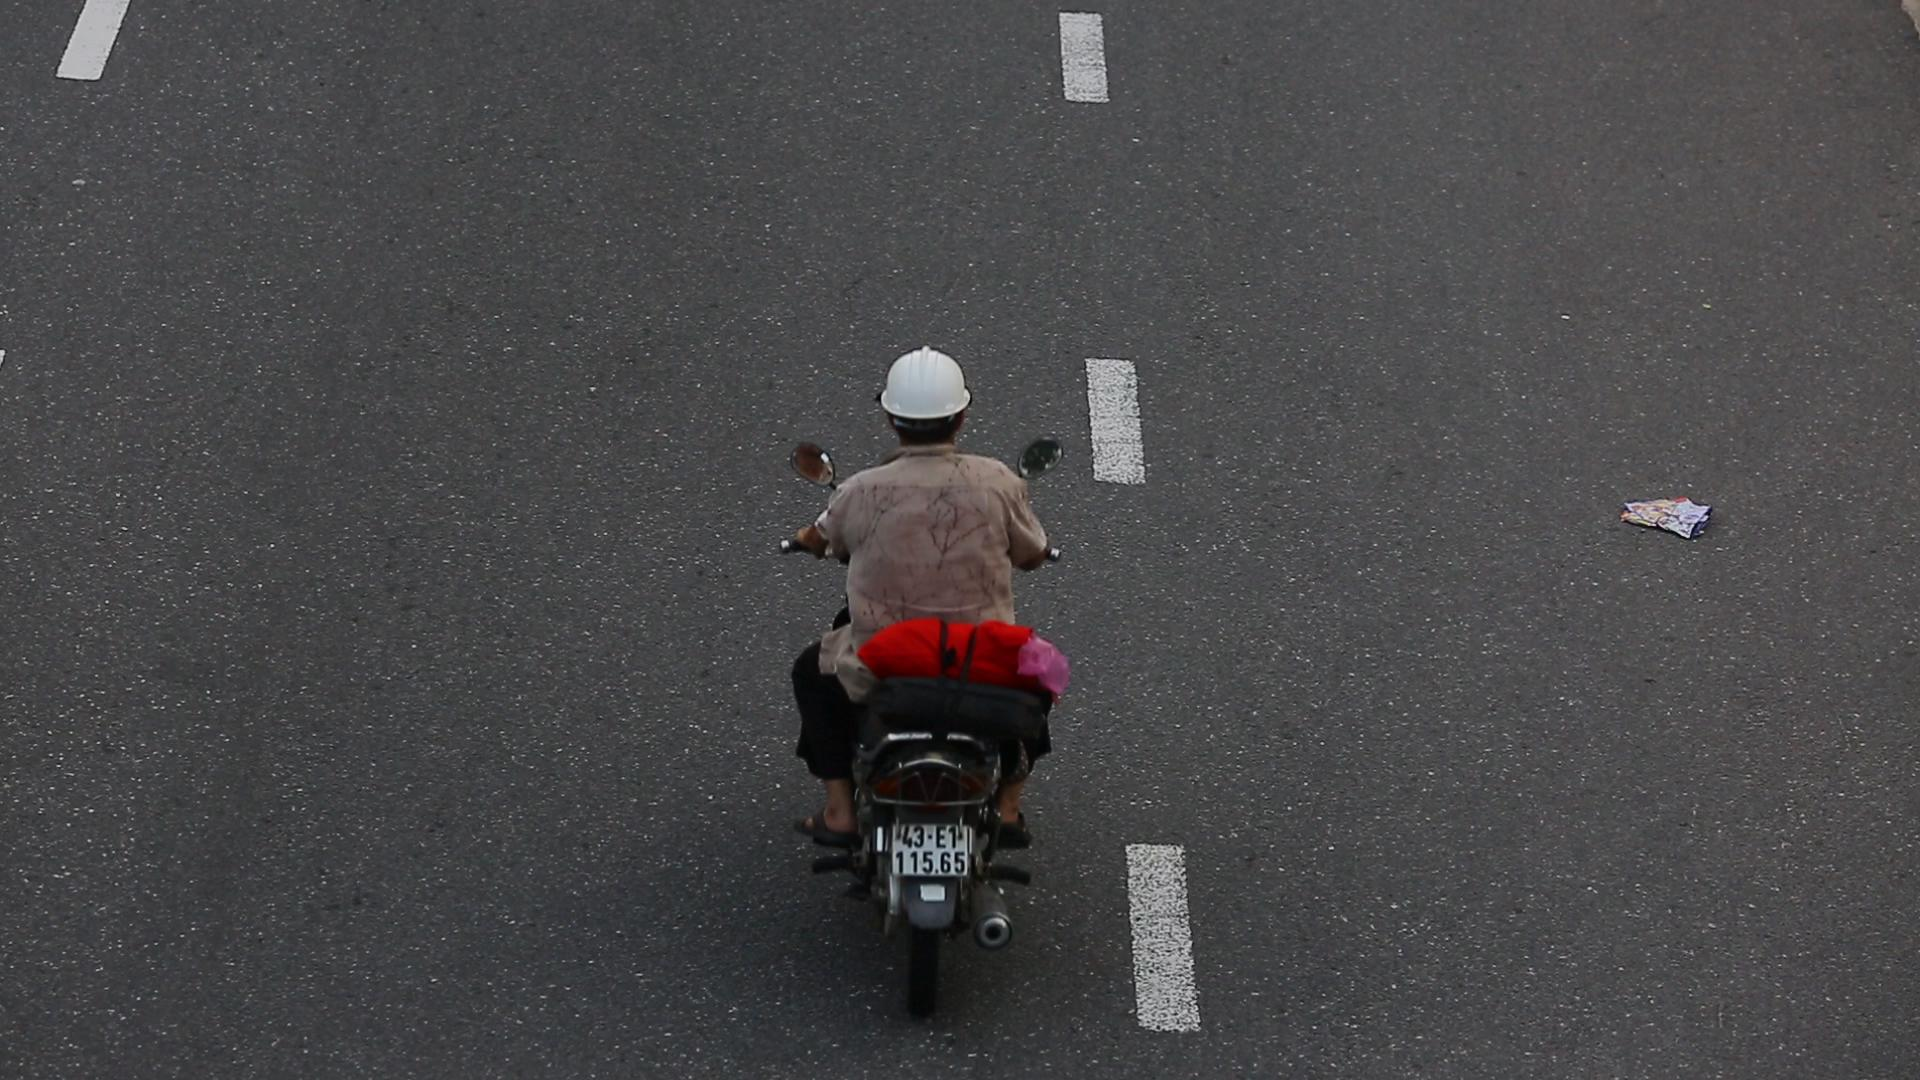motobike: (760, 340, 1081, 1035)
